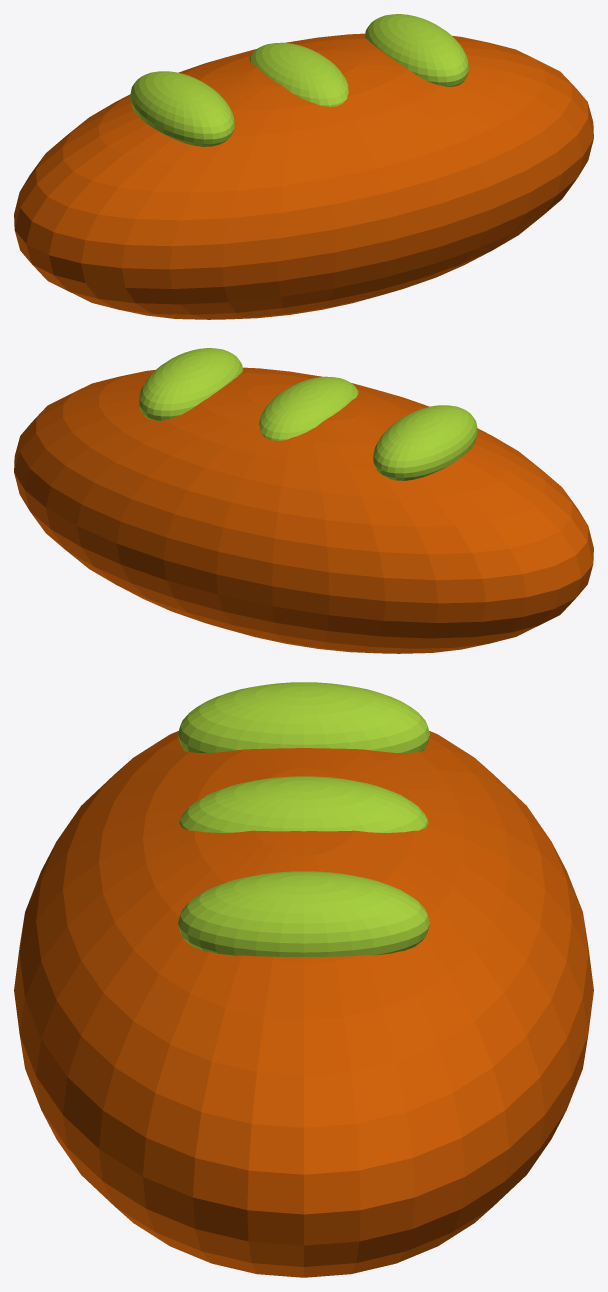
File: Food.obj
3 views of the same model, one above another, from view 1: azimuth 30°, elevation 25°; view 2: azimuth 150°, elevation 25°; view 3: azimuth 270°, elevation 25° (orthographic). The views are drawn at different scales.
Parts seen in each view (by area): view 1: 球; view 2: 球; view 3: 球.
Part boxes in pixels (left/top/right/bottom): 球: left=14, top=14, right=593, bottom=319; 球: left=14, top=348, right=593, bottom=653; 球: left=14, top=682, right=593, bottom=1277.
Size of the model in its own units: 1.3 by 0.5174 by 0.7098.
